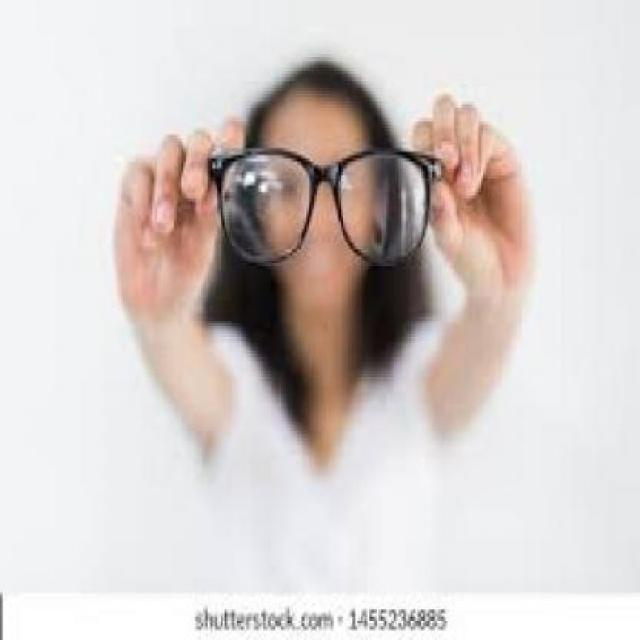glasses: (200, 135, 449, 273)
